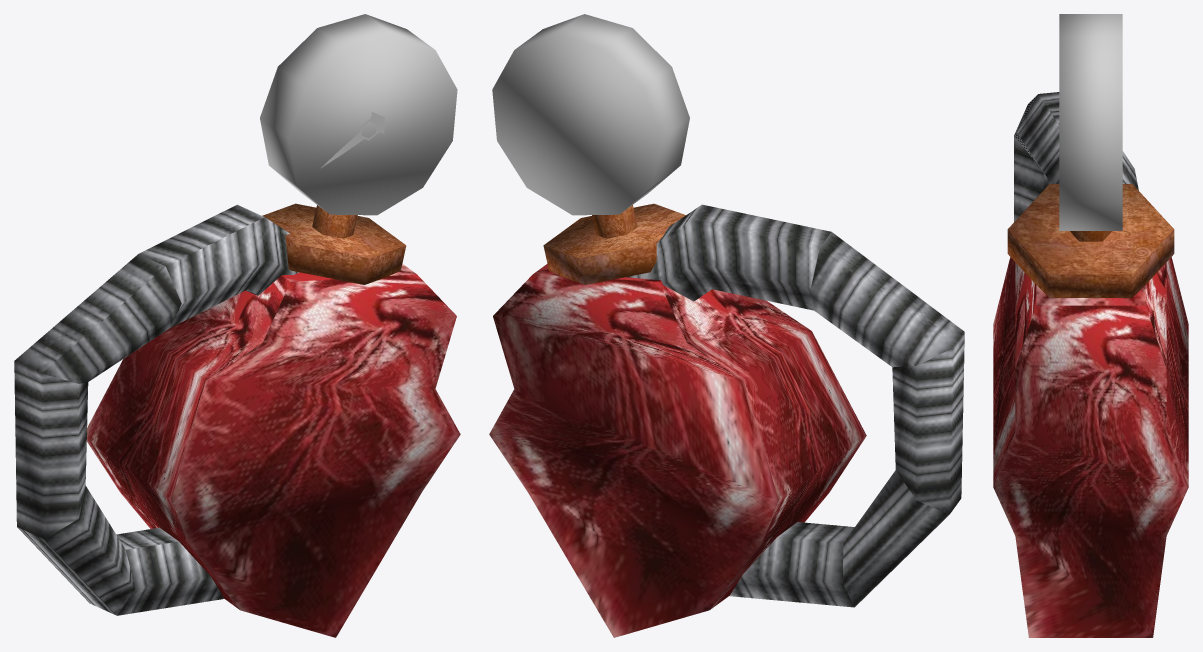
The model's file is HEART.fbx.
3 views of the same model, side by side, from view 1: azimuth 30°, elevation 25°; view 2: azimuth 150°, elevation 25°; view 3: azimuth 270°, elevation 25° (orthographic). The views are drawn at different scales.
Parts seen in each view (by area): view 1: Elbow Joint; view 2: Elbow Joint; view 3: Elbow Joint.
Boxes of the visible parts, left/top/right/bottom form: Elbow Joint: left=14, top=14, right=460, bottom=637; Elbow Joint: left=489, top=14, right=964, bottom=637; Elbow Joint: left=993, top=14, right=1188, bottom=637.
Size of the model in its own units: 159 by 199 by 55.32.
